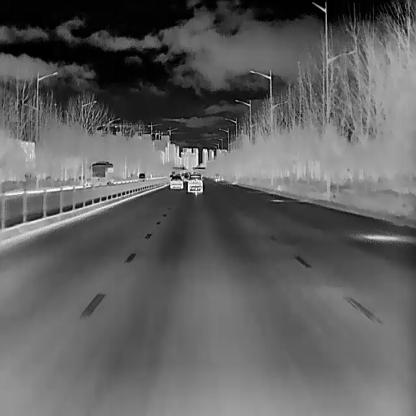bus: (88, 159, 112, 186)
car: (185, 174, 202, 192), (170, 174, 182, 188), (212, 172, 220, 182), (138, 171, 145, 182)
